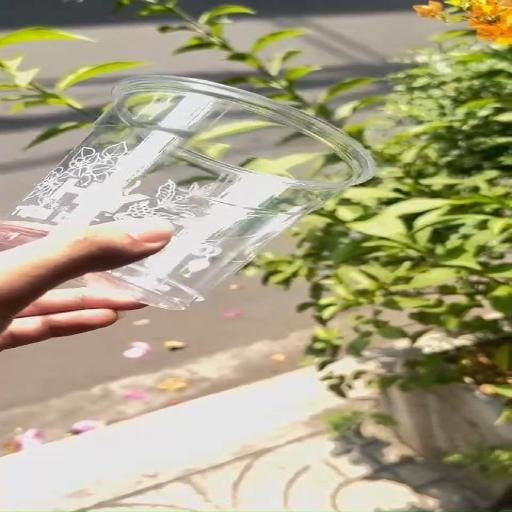ly_giay: (0, 75, 373, 309)
